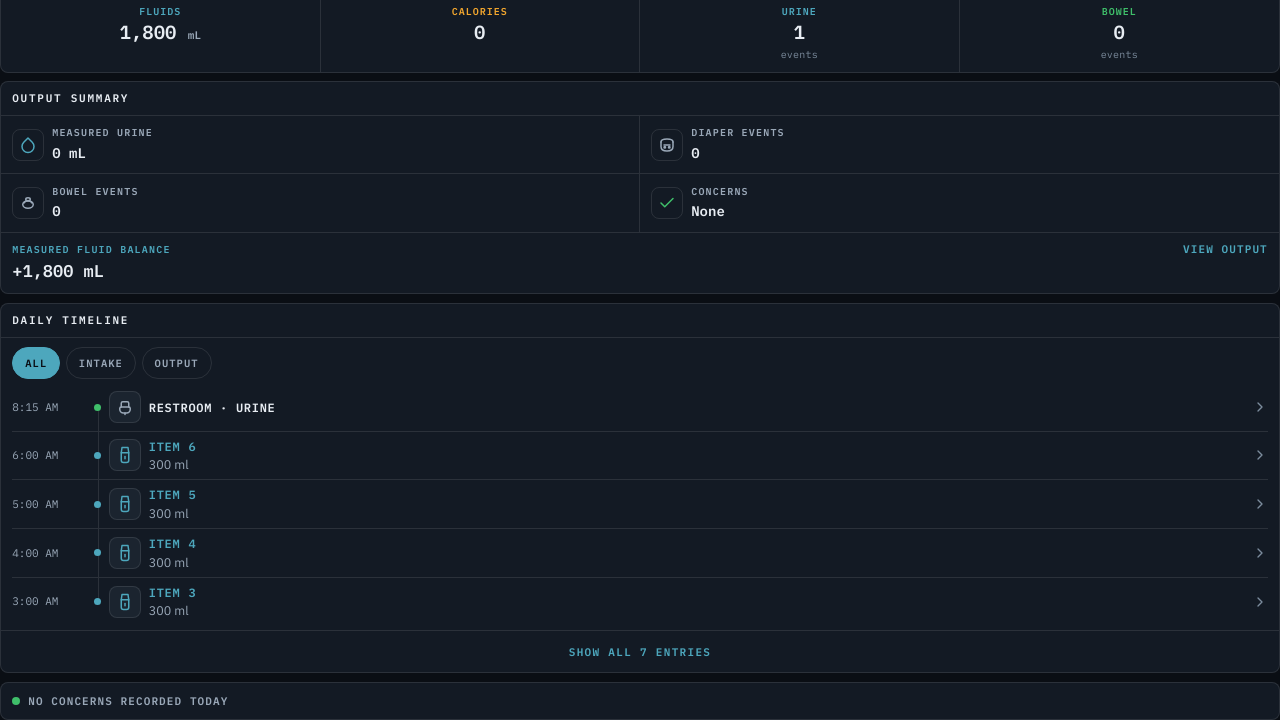
NutritionOverview › filters the timeline and collapses long days
(page scrolled)
Click the button "Show all 7 entries". click: click(640, 651)
box: [1,630,1279,672]
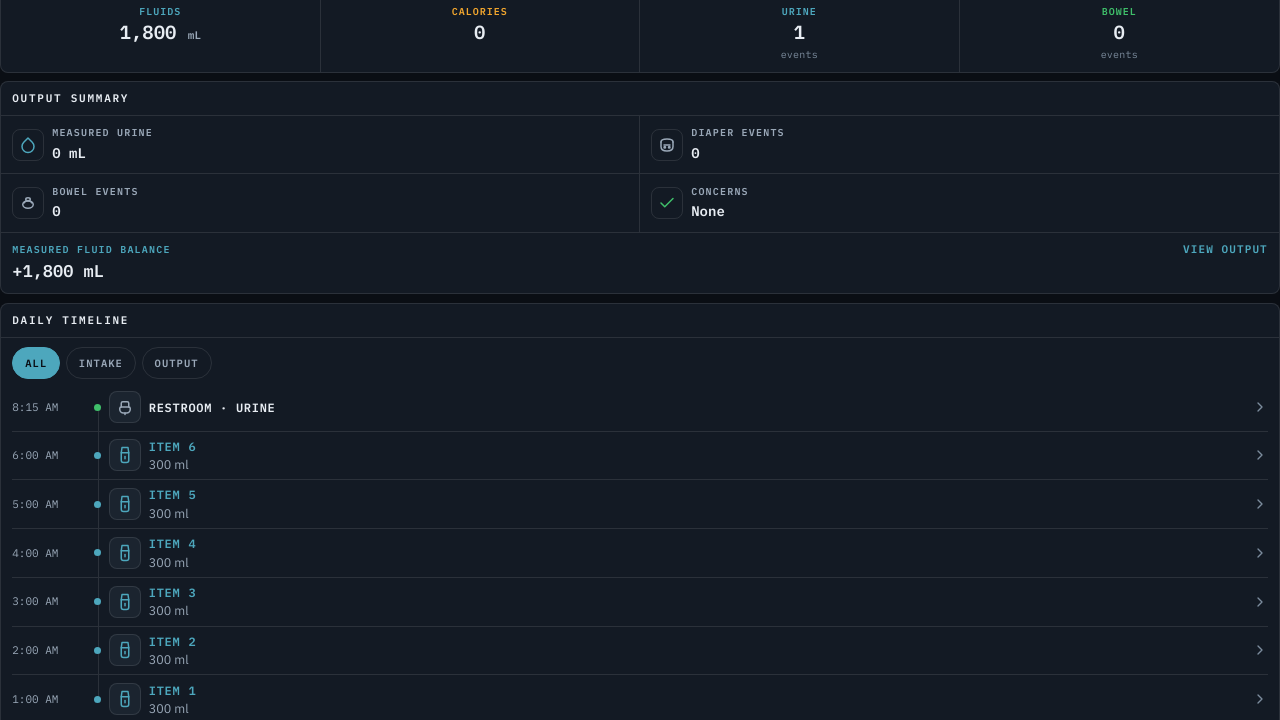
Click the tab "Output". click: click(177, 362)
box: [142,346,212,378]
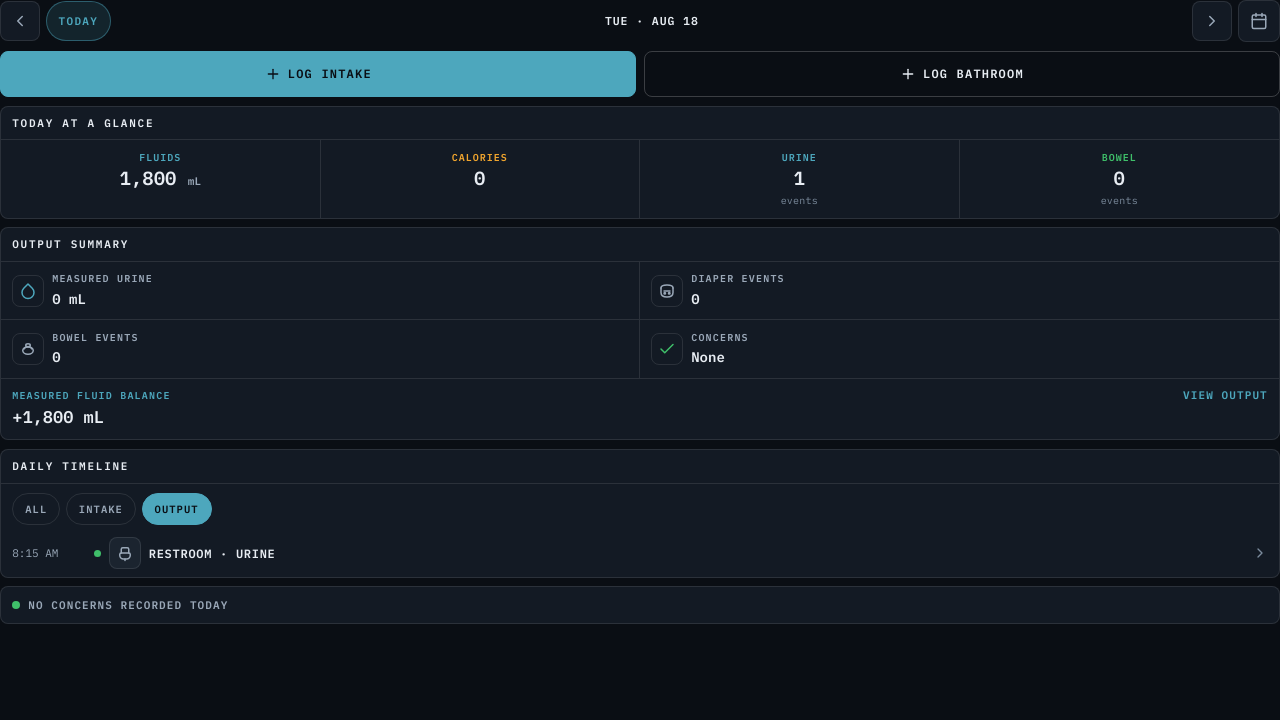
expect the button "Item 1" is gone: met
